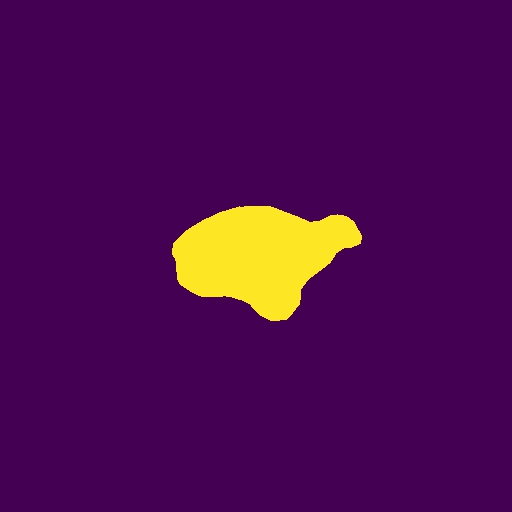Gliomia_tumour: (172, 206, 362, 321)
